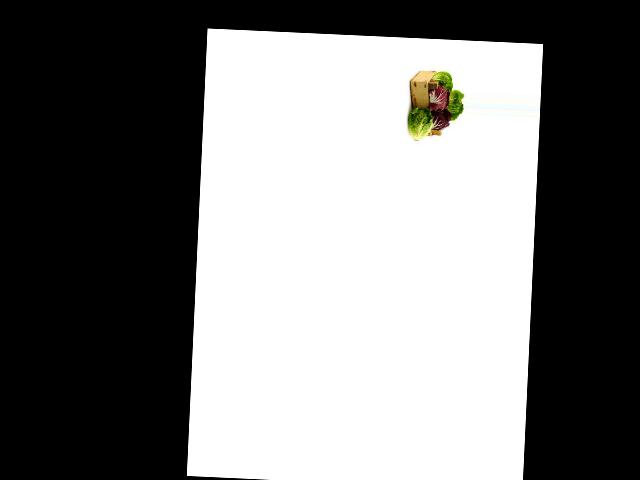lettuce: (441, 89, 464, 121)
